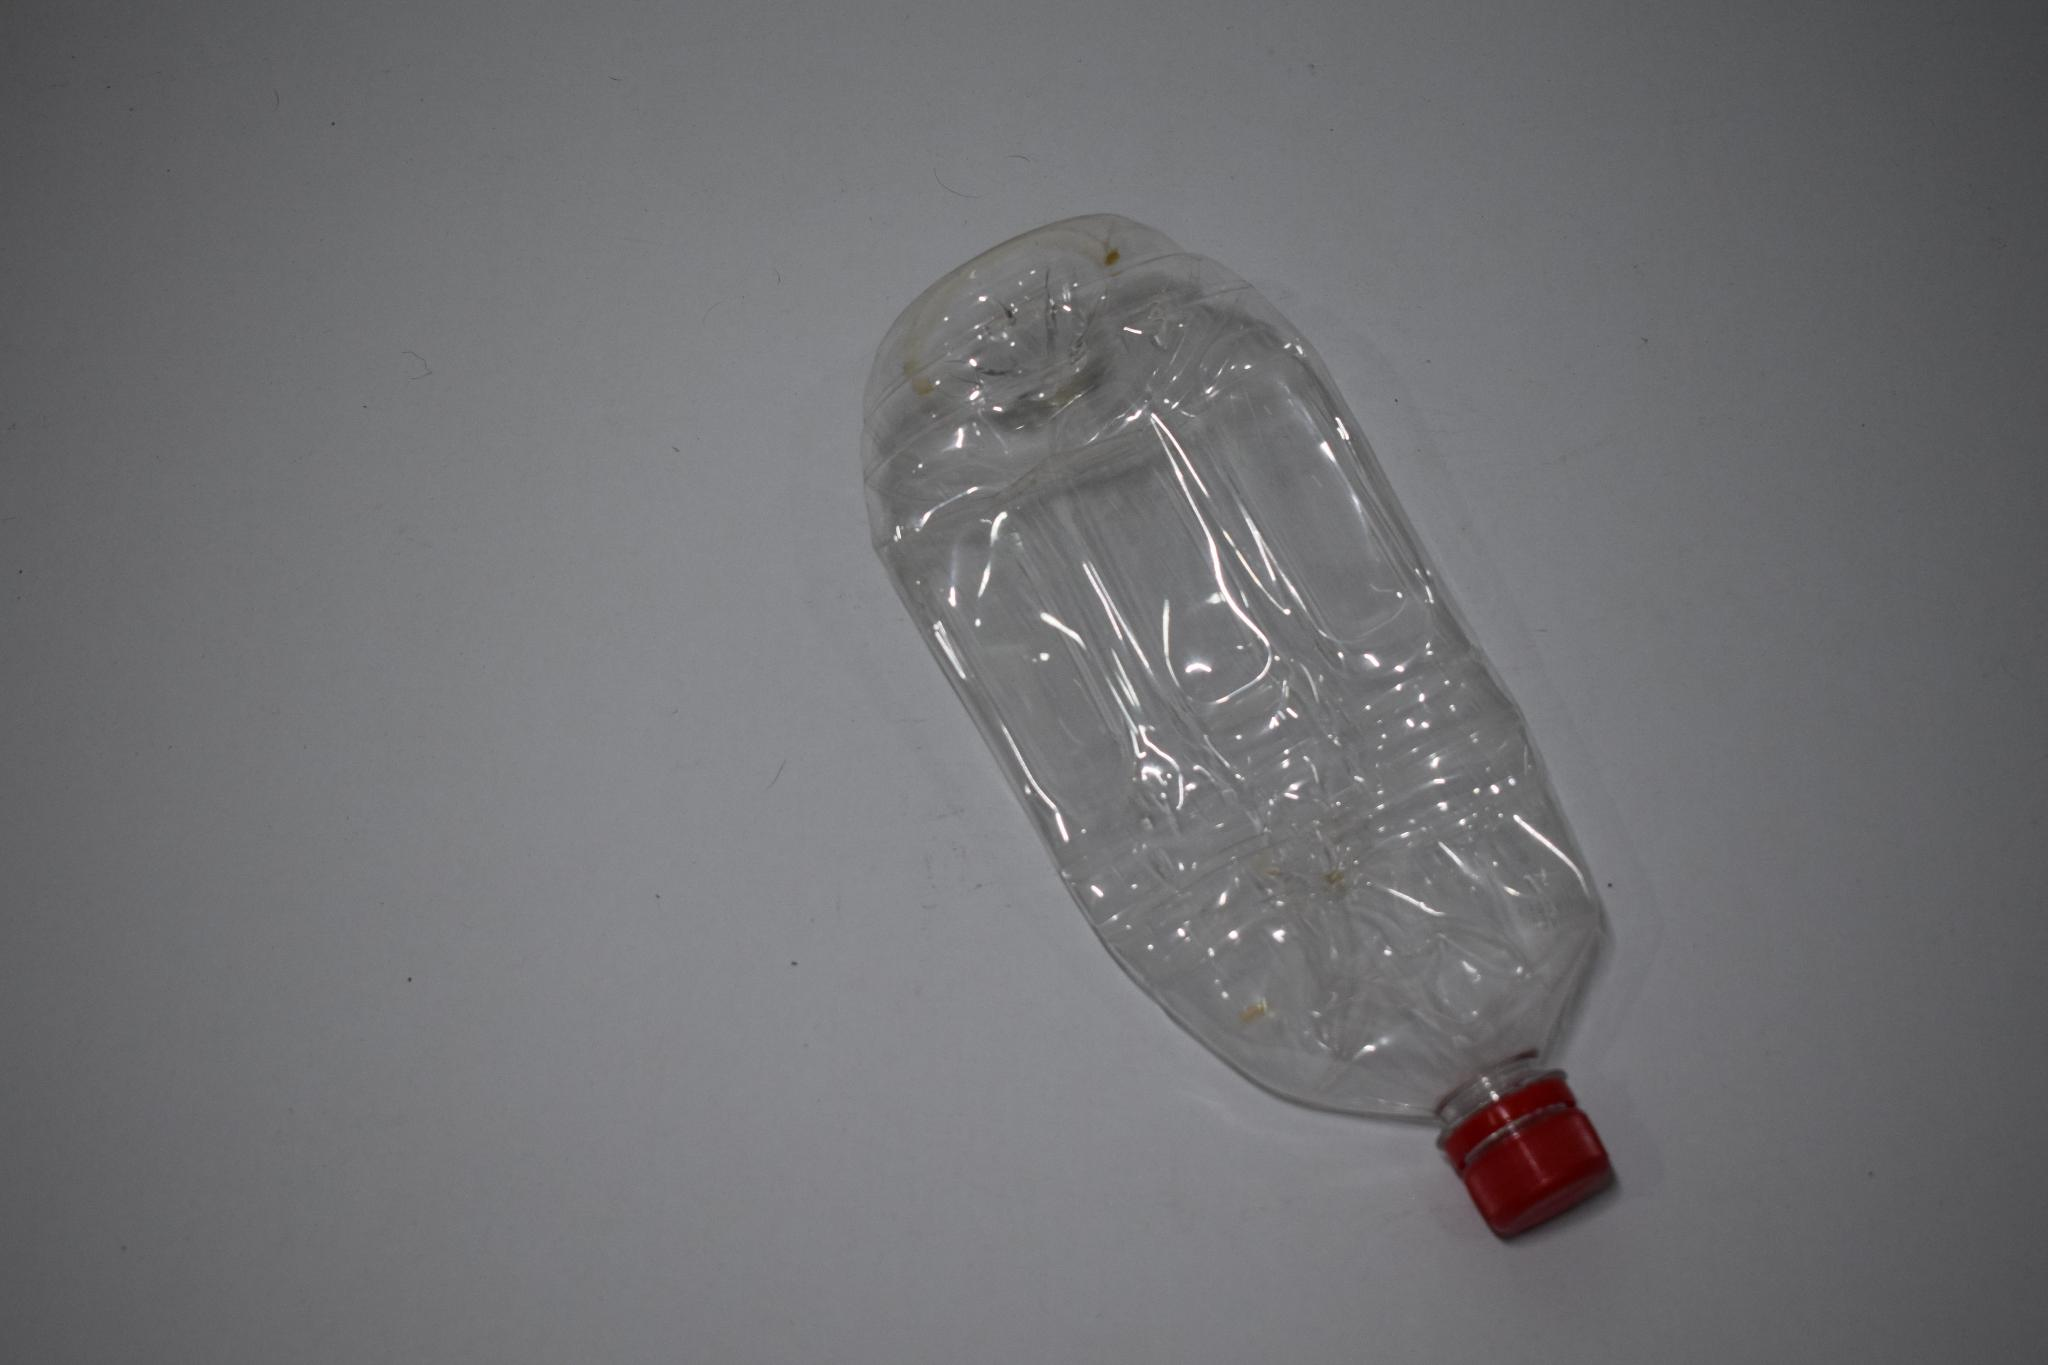bottle: (834, 199, 1698, 1241)
